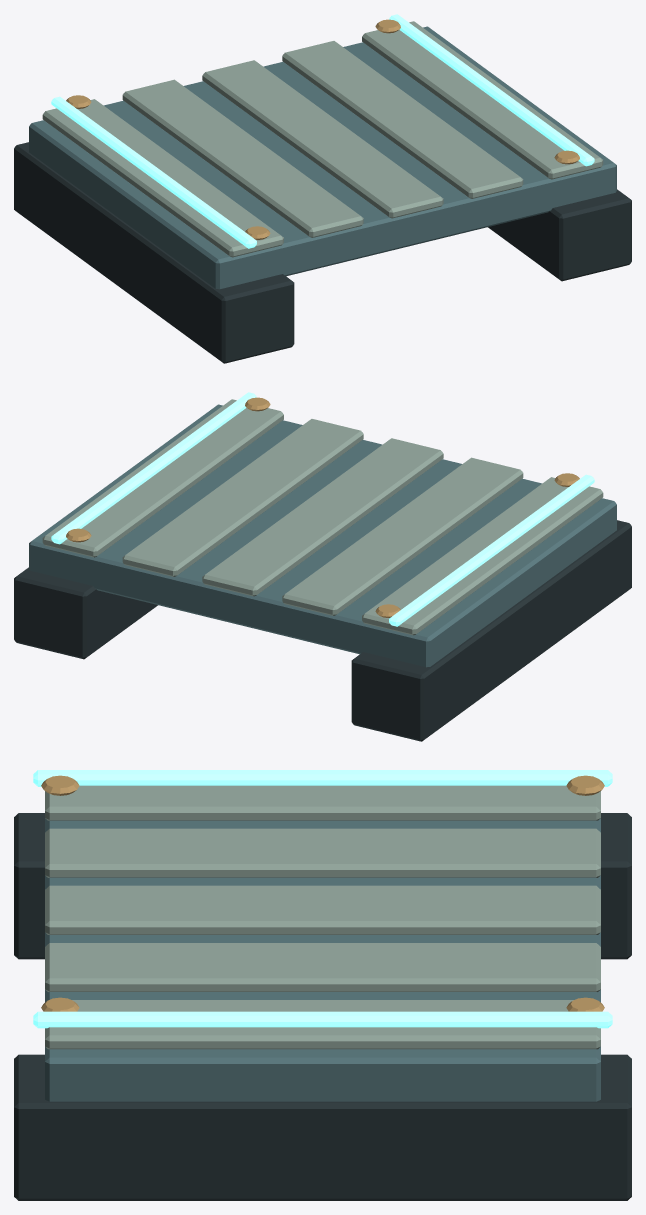
The model's file is dry_crossing.glb.
3 renders of one model, top to bottom at view 1: azimuth 30°, elevation 25°; view 2: azimuth 150°, elevation 25°; view 3: azimuth 270°, elevation 25°, orthographic. The views are drawn at different scales.
Visible parts, largest first — view 1: dry_crossing_surfaces; view 2: dry_crossing_surfaces; view 3: dry_crossing_surfaces.
Boxes of the visible parts, x1,y1,x2,y2 form: dry_crossing_surfaces: [14, 14, 631, 363]; dry_crossing_surfaces: [14, 392, 631, 741]; dry_crossing_surfaces: [14, 770, 631, 1200].
Size of the model in its own units: 1.8 by 0.466 by 1.6.
